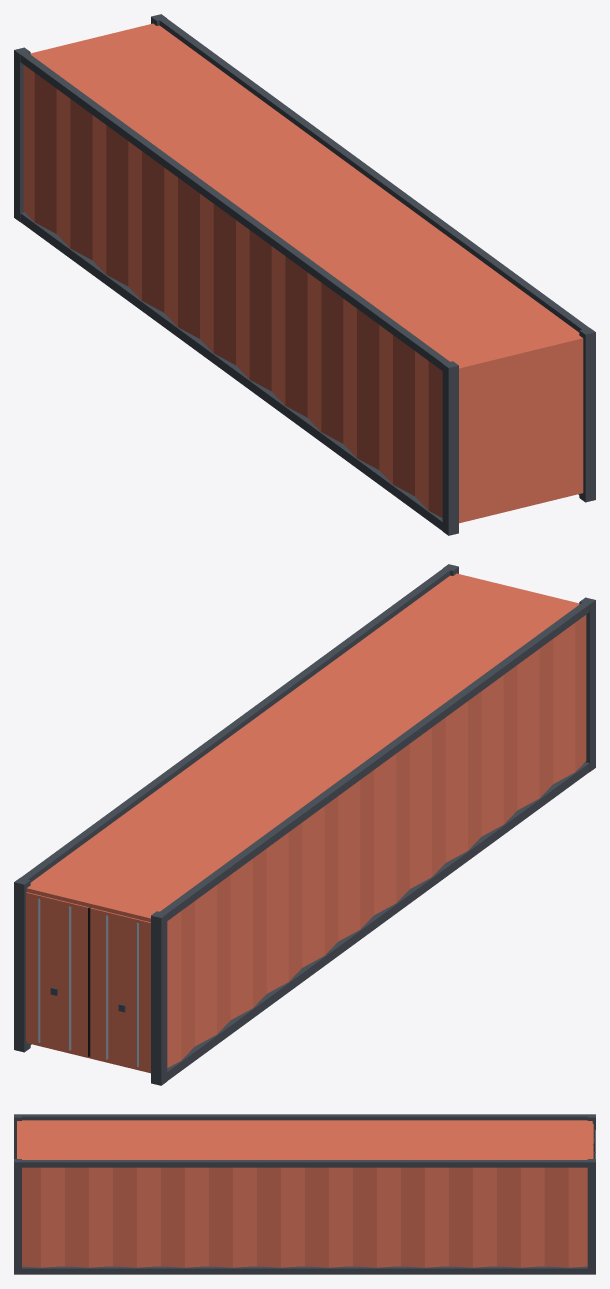
The model's file is container_b.glb.
The picture shows the model from 3 angles, top to bottom: view 1: azimuth 30°, elevation 25°; view 2: azimuth 150°, elevation 25°; view 3: azimuth 270°, elevation 25°; orthographic projection. The views are drawn at different scales.
Parts seen in each view (by area): view 1: Body; view 2: Body; view 3: Body.
Part boxes in pixels (bbox=[...]): Body: bbox=[14, 14, 595, 535]; Body: bbox=[14, 564, 595, 1085]; Body: bbox=[14, 1114, 595, 1274].
Bounding box in the file's own units: 2.39 × 2.6 × 12.21.
